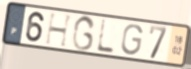6: (25, 11, 46, 44)
7: (147, 25, 169, 61)
G: (70, 15, 97, 53), (120, 23, 145, 57)
H: (44, 11, 76, 49)
L: (95, 18, 116, 55)
